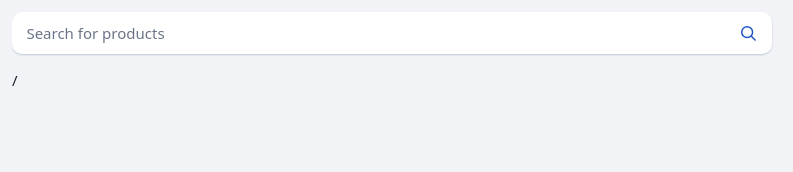
Scenario: SearchBox recent searches › keeps the text plain: markup in a stored search is shown as text
Click the dropdown named "Search products" at [368, 33], box [12, 12, 724, 54]
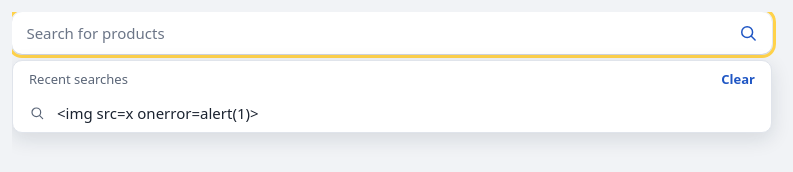
Check: the option "<img src=x onerror=alert(1)>" is shown, box [29, 103, 259, 123]
